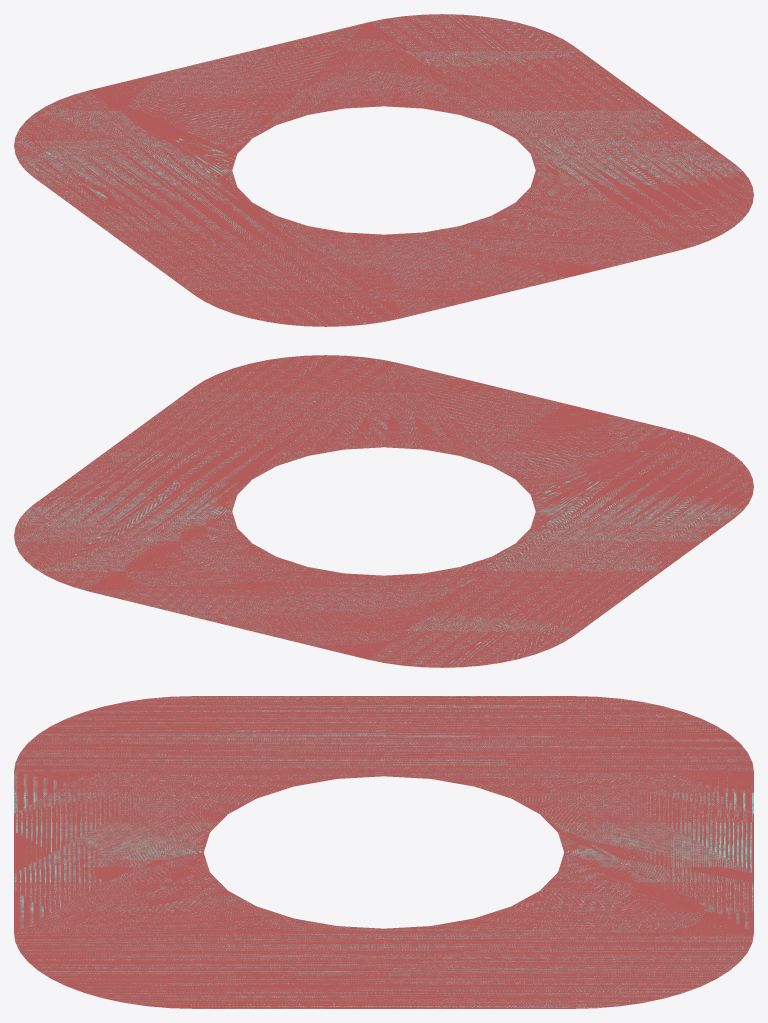
File: 中国尊10.dae
3 views of the same model, one above another, from view 1: azimuth 30°, elevation 25°; view 2: azimuth 150°, elevation 25°; view 3: azimuth 270°, elevation 25° (orthographic). The views are drawn at different scales.
Visible parts, largest first — view 1: SketchUp; view 2: SketchUp; view 3: SketchUp.
Part boxes in pixels (left/top/right/bottom): SketchUp: left=14, top=14, right=753, bottom=326; SketchUp: left=14, top=355, right=753, bottom=667; SketchUp: left=14, top=696, right=753, bottom=1008.
Size of the model in its own units: 2338 by 2338 by 0.
Materials: 2 (1 with a texture image).
